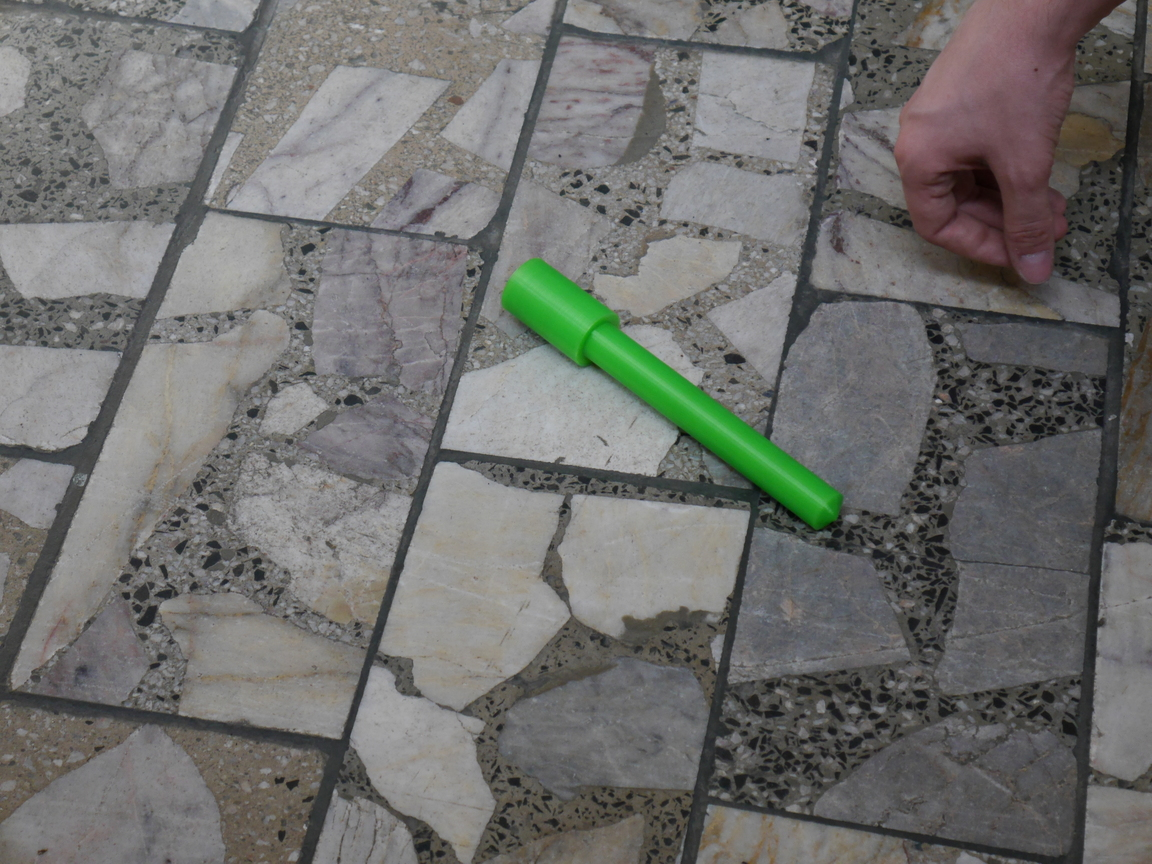cargo_g: (501, 256, 844, 530)
